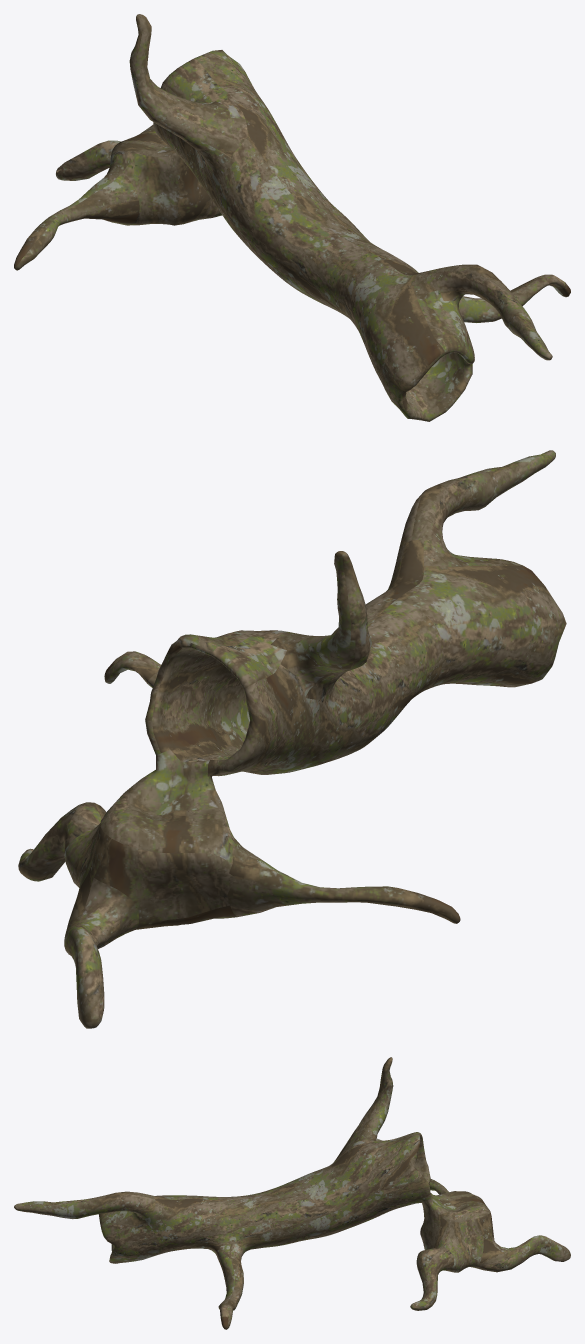
File: tree2.FBX
3 views of the same model, one above another, from view 1: azimuth 30°, elevation 25°; view 2: azimuth 150°, elevation 25°; view 3: azimuth 270°, elevation 25° (orthographic). The views are drawn at different scales.
Visible parts, largest first — view 1: ZBrush_defualt_group; view 2: ZBrush_defualt_group; view 3: ZBrush_defualt_group.
Boxes of the visible parts, x1,y1,x2,y2 form: ZBrush_defualt_group: (14,14,570,421); ZBrush_defualt_group: (18,450,566,1028); ZBrush_defualt_group: (14,1057,570,1329).
Size of the model in its own units: 124 by 80.68 by 220.
